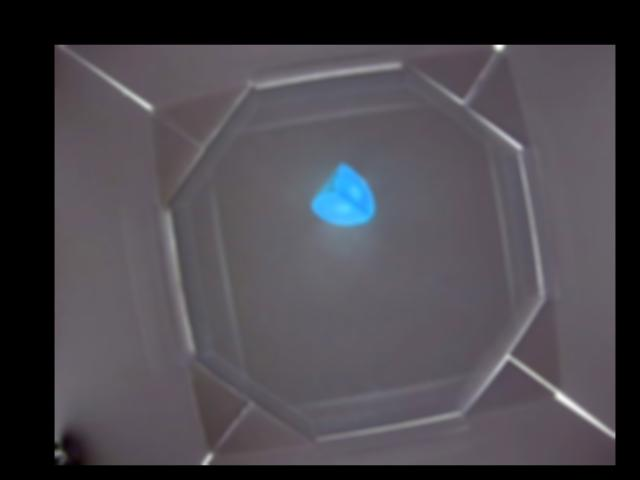Carrot: (312, 163, 376, 223)
